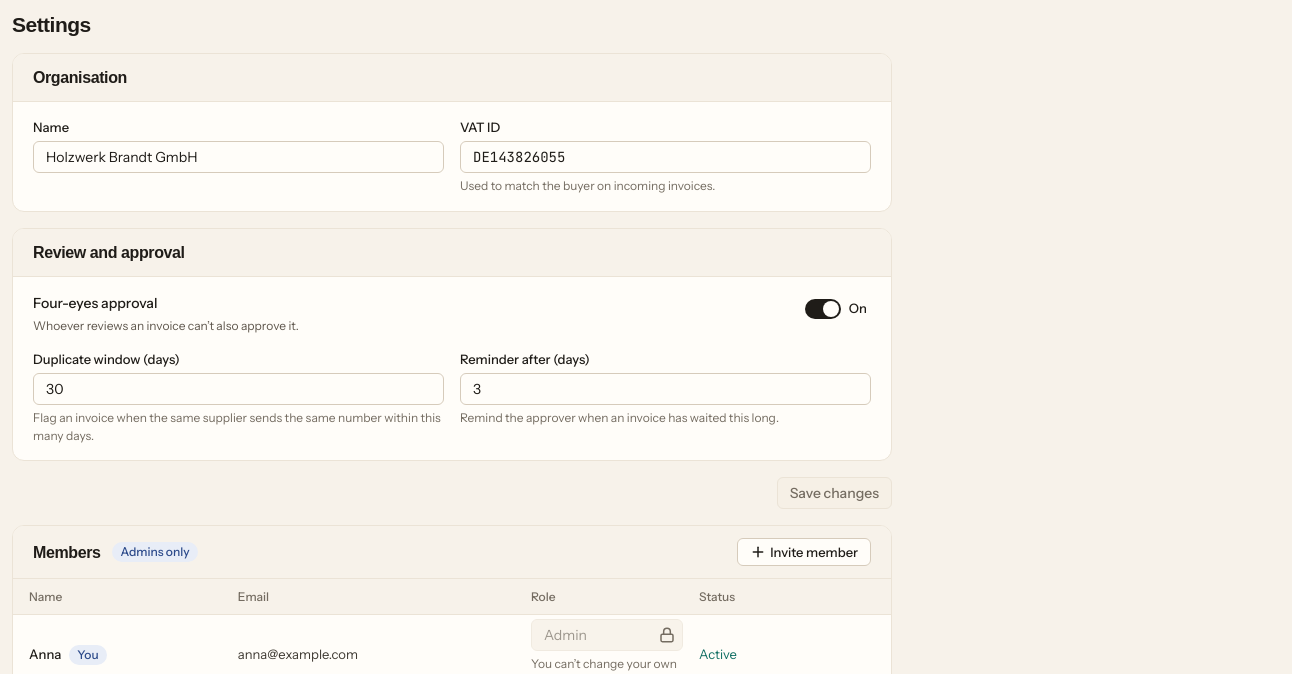
Test: SettingsView organisation form › checks the windows before saving
Replace the text in the field labelled "Duplicate window (days)" with "0" at (238, 389), box [33, 373, 444, 405]
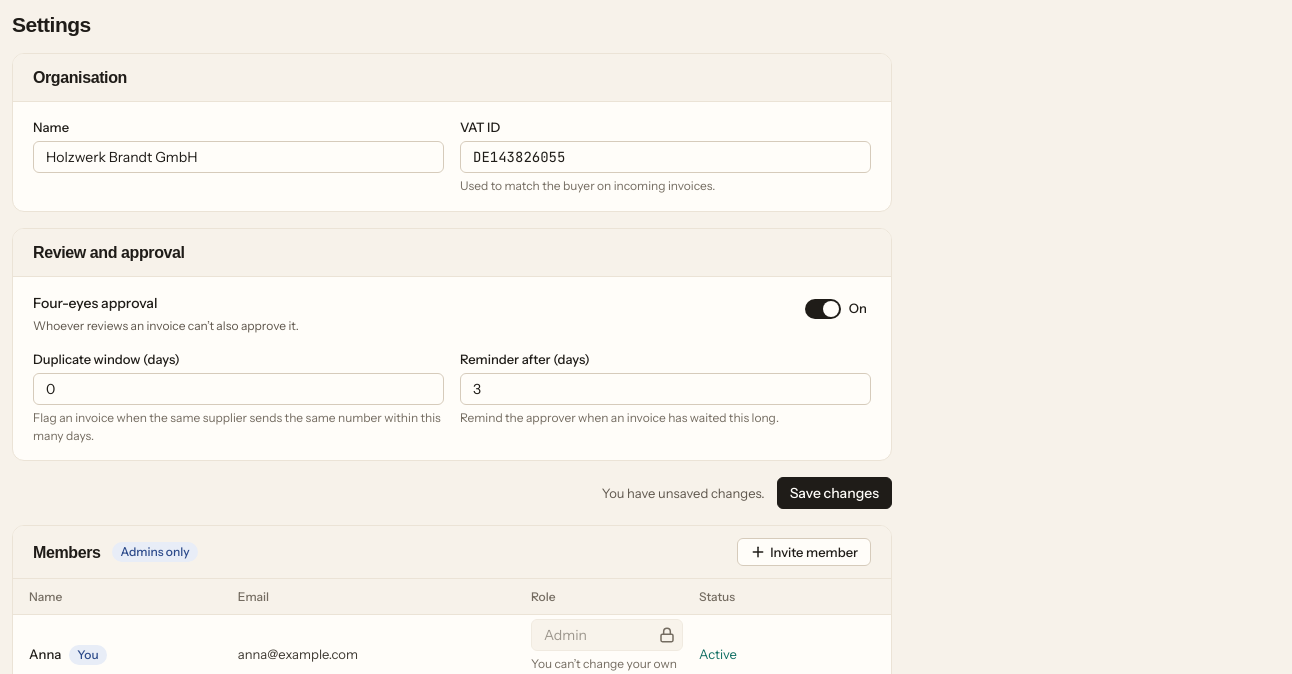
Click the button "Save changes" at (834, 493), box [777, 477, 892, 509]
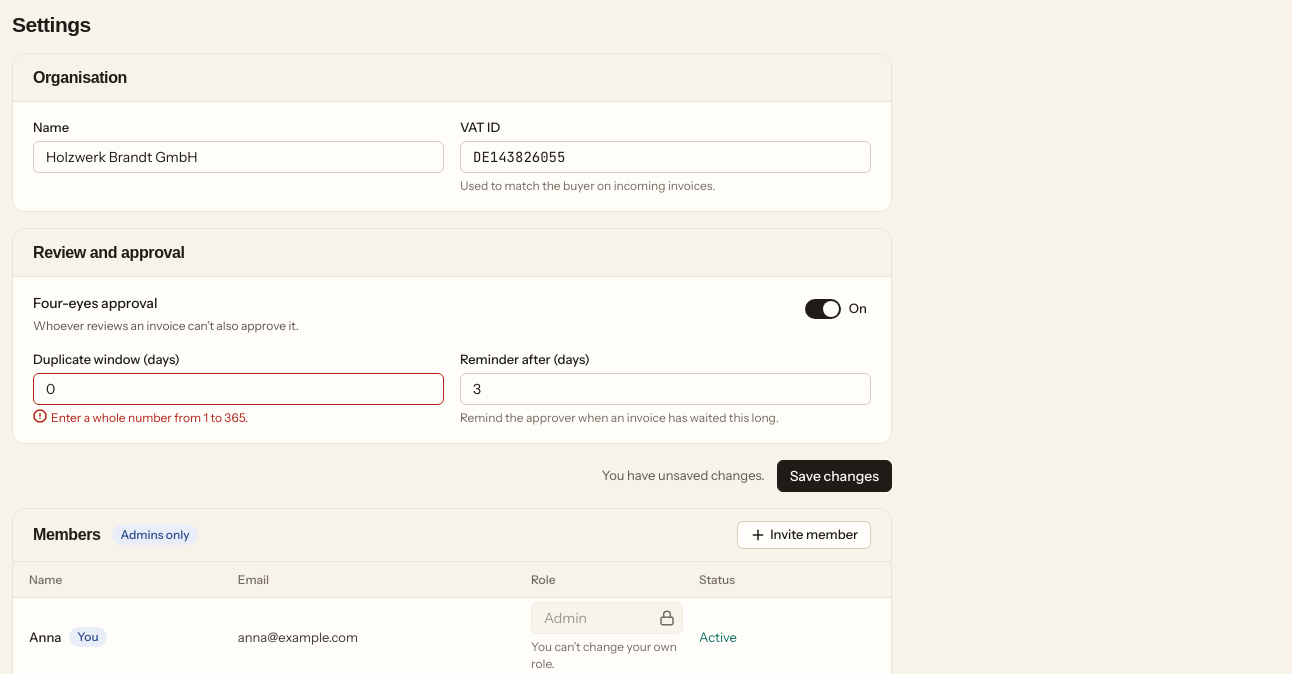
Check: the text "Enter a whole number from 1 to 365." is shown, box [33, 409, 248, 425]
